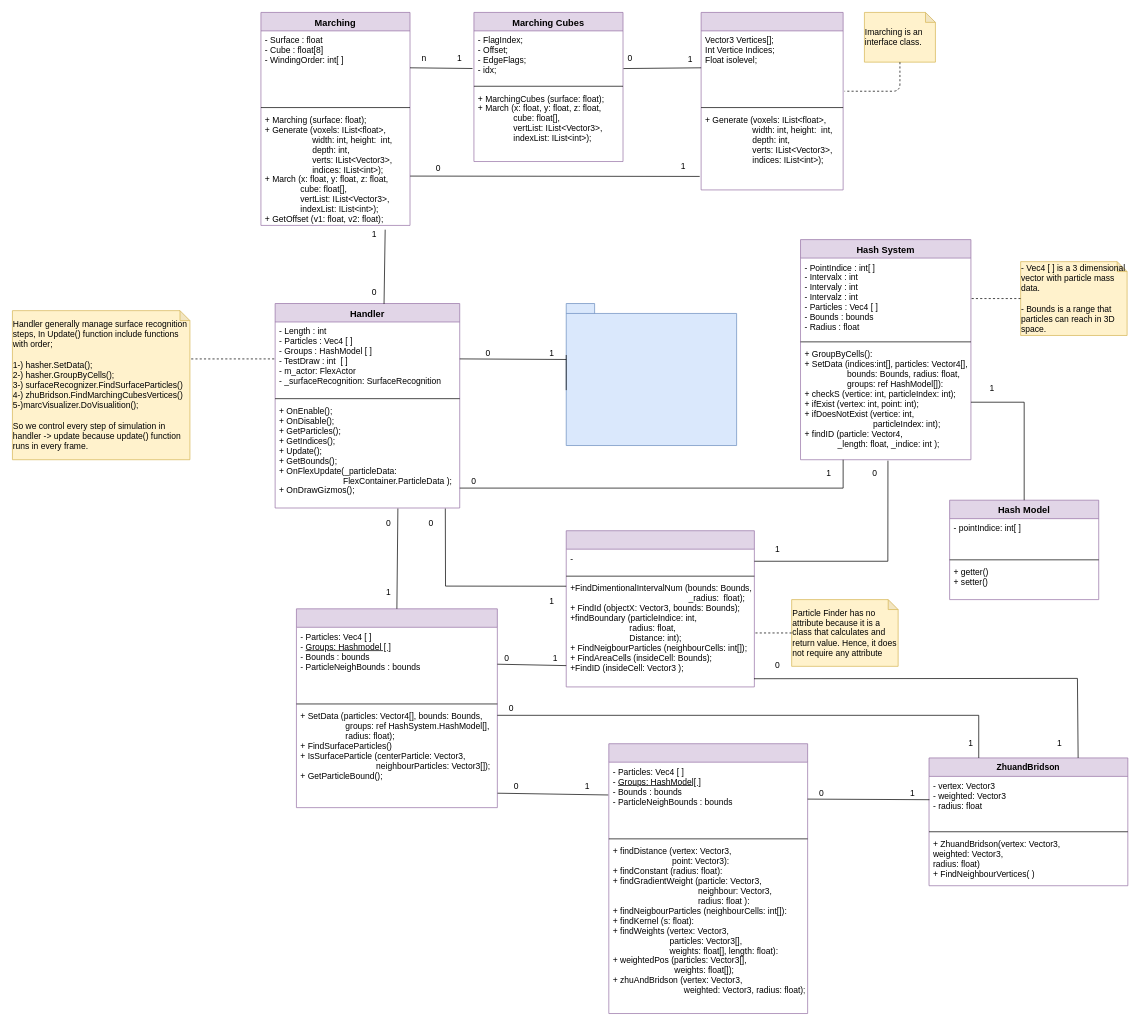
Some shapes in this 1140 by 1028 pixel diagram are drawn without their labels. Here are the shapes that lost their labels. From the top down, the box of each, then its label:
(700, 12, 843, 190): IMarching
(566, 303, 737, 446): NVIDIA Flex
(566, 530, 754, 687): Particle Finder
(296, 608, 497, 808): Surface Recognizer
(608, 743, 808, 1014): Situational Surface Calculator
